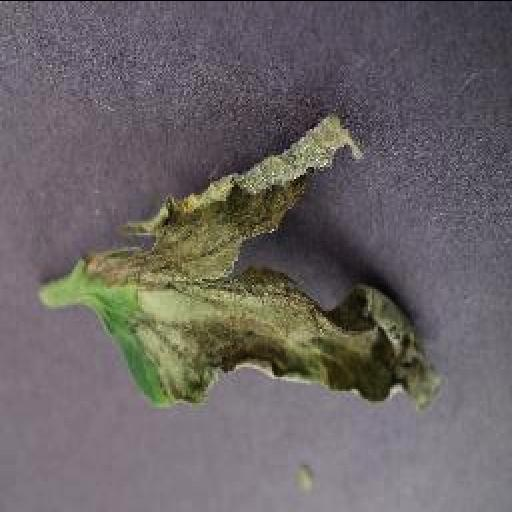disease_tomato: (92, 110, 444, 408)
